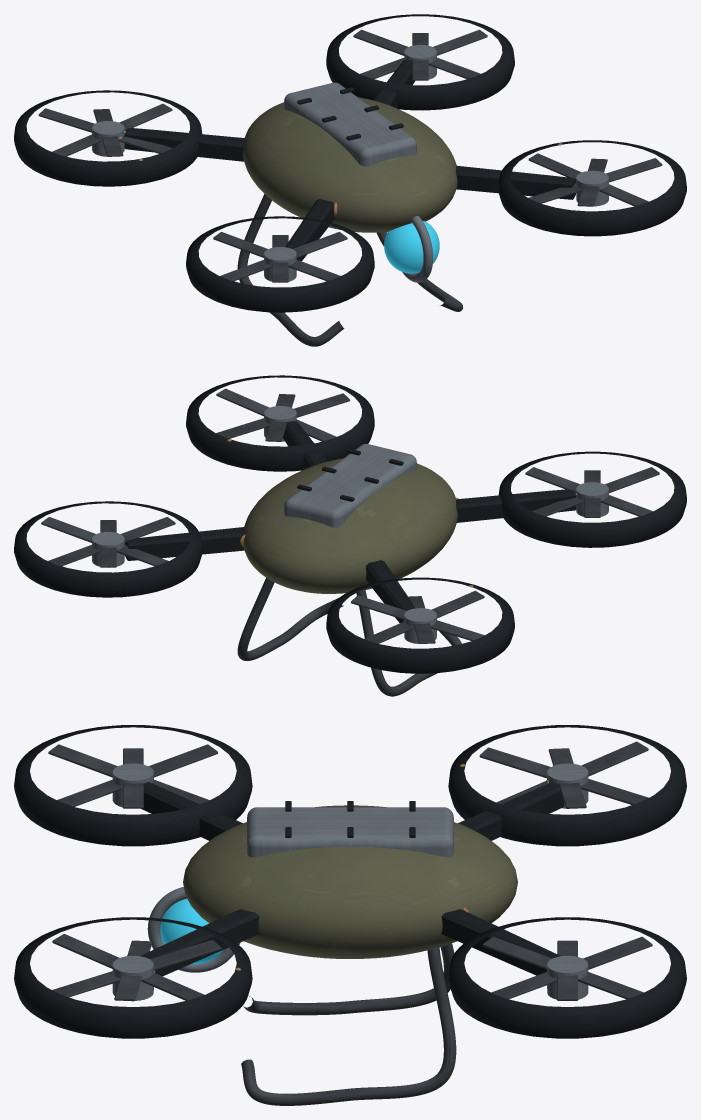
The model's file is combat-drone.glb.
3 views of the same model, one above another, from view 1: azimuth 30°, elevation 25°; view 2: azimuth 150°, elevation 25°; view 3: azimuth 270°, elevation 25° (orthographic). The views are drawn at different scales.
Visible parts, largest first — view 1: polymer / stippled polymer, ceramic / ceramic composite panel, darksteel / oil-blackened fittings, alloy / machined anodized alloy, crystal / faceted crystal; view 2: polymer / stippled polymer, ceramic / ceramic composite panel, darksteel / oil-blackened fittings, alloy / machined anodized alloy; view 3: polymer / stippled polymer, ceramic / ceramic composite panel, darksteel / oil-blackened fittings, alloy / machined anodized alloy, crystal / faceted crystal.
Boxes of the visible parts, bbox=[...] form: polymer / stippled polymer: bbox=[14, 14, 686, 312]; ceramic / ceramic composite panel: bbox=[243, 97, 457, 232]; darksteel / oil-blackened fittings: bbox=[38, 29, 662, 346]; alloy / machined anodized alloy: bbox=[92, 44, 608, 282]; crystal / faceted crystal: bbox=[384, 221, 439, 273]; polymer / stippled polymer: bbox=[14, 375, 686, 673]; ceramic / ceramic composite panel: bbox=[243, 458, 457, 593]; darksteel / oil-blackened fittings: bbox=[41, 388, 659, 696]; alloy / machined anodized alloy: bbox=[92, 406, 608, 643]; polymer / stippled polymer: bbox=[14, 725, 686, 1038]; ceramic / ceramic composite panel: bbox=[183, 805, 517, 958]; darksteel / oil-blackened fittings: bbox=[48, 741, 652, 1105]; alloy / machined anodized alloy: bbox=[112, 763, 588, 1000]; crystal / faceted crystal: bbox=[160, 898, 223, 964].
Size of the model in its own units: 0.6707 by 0.2586 by 0.6507.
Materials: 6 (4 with a texture image).
